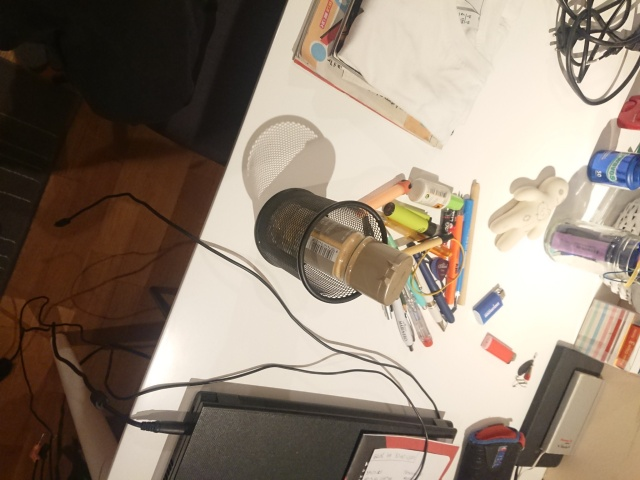Kotanyi Garlic Granules 70g: (266, 200, 414, 307)
